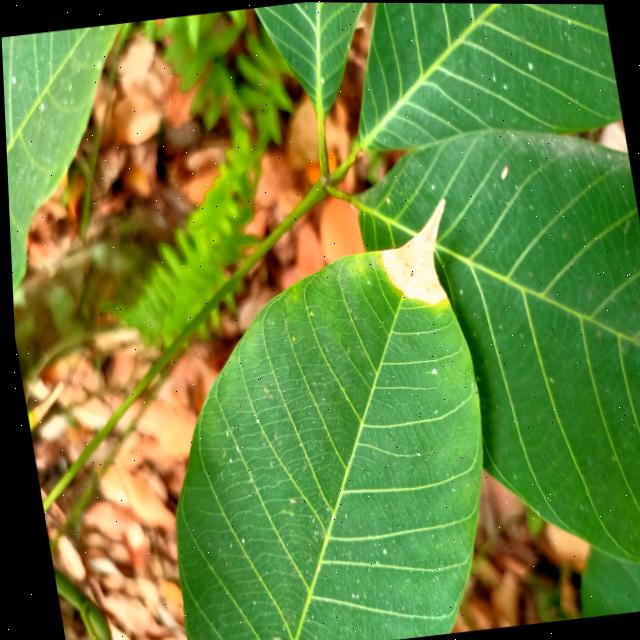Leaf-Blight: (370, 197, 460, 311)
